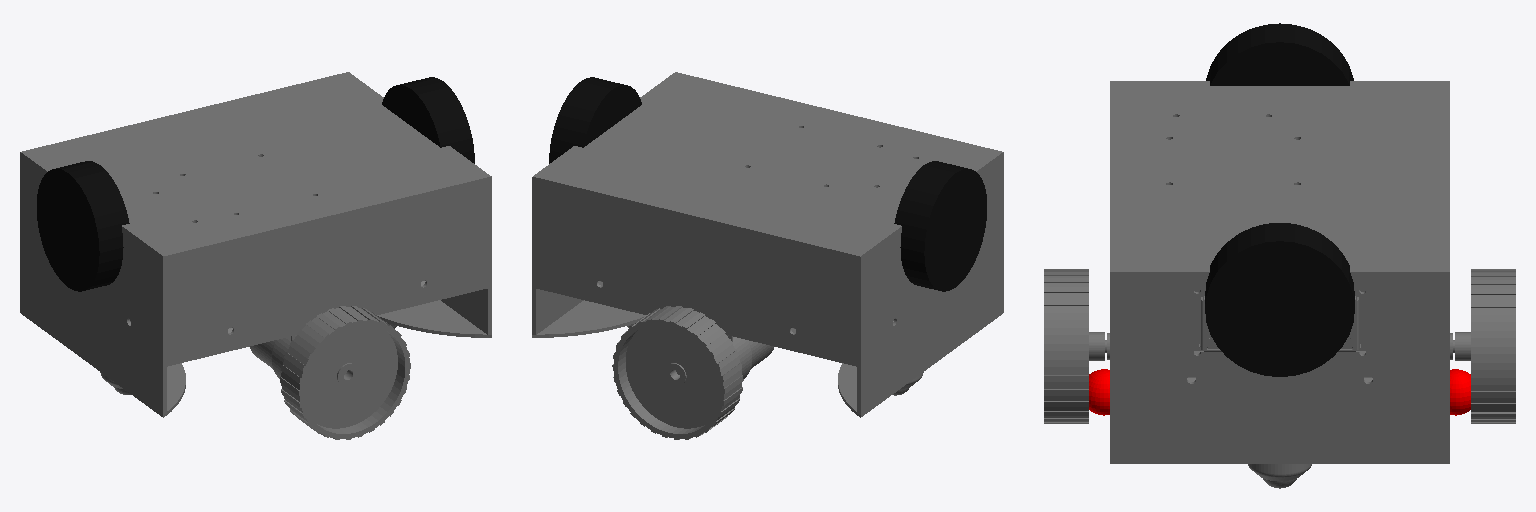
The robot description file, URDF, robot "qbot":
<?xml version="1.0" ?>
<!-- =================================================================================== -->
<!-- |    This document was autogenerated by xacro from qbot_description.xacro         | -->
<!-- |    EDITING THIS FILE BY HAND IS NOT RECOMMENDED                                 | -->
<!-- =================================================================================== -->
<robot name="qbot">
  <!-- Materials -->
  <material name="blue">
    <color rgba="0 0 1 1"/>
  </material>
  <material name="red">
    <color rgba="1 0 0 1"/>
  </material>
  <material name="green">
    <color rgba="0 1 0 1"/>
  </material>
  <material name="gray">
    <color rgba="0.5 0.5 0.5 1"/>
  </material>
  <material name="black">
    <color rgba="0.1 0.1 0.1 1"/>
  </material>
  <!-- general inertia tags -->
  <!-- Model Properties -->
  <link name="base_footprint"/>
  <link name="base_link">
    <!-- From CAD -->
    <inertial>
      <!-- <origin xyz="1.7719586332633954E-6 1.751448244030529E-4 0.0466875772049434" rpy="0.0 -0.0 0.0"/> -->
      <mass value="1.3579939912816132"/>
      <inertia ixx="0.003930134422968899" ixy="4.165452750789473E-6" ixz="6.2059583704332395E-6" iyy="0.004627442836321762" iyz="-2.140255948376241E-5" izz="0.0065795625959500755"/>
    </inertial>
    <visual>
      <origin rpy="0 0 0" xyz="0 0 -0.074"/>
      <geometry>
        <mesh filename="package://qbot_description/meshes/qbot_base.stl" scale="1 1 1"/>
      </geometry>
      <material name="gray"/>
    </visual>
    <collision>
      <origin rpy="0 0 0" xyz="0 0 -0.074"/>
      <geometry>
        <box size="0.154 0.204 0.092"/>
      </geometry>
    </collision>
  </link>
  <link name="left_wheel">
    <visual>
      <origin rpy="0 0 0" xyz="0 0 0"/>
      <geometry>
        <cylinder length="0.02" radius="0.034"/>
      </geometry>
      <material name="black"/>
    </visual>
    <collision>
      <origin rpy="0 0 0" xyz="0 0 0"/>
      <geometry>
        <cylinder length="0.02" radius="0.034"/>
      </geometry>
    </collision>
    <inertial>
      <origin rpy="0 0 0" xyz="0 0 0"/>
      <mass value="0.033"/>
      <inertia ixx="1.0637000000000003e-05" ixy="0" ixz="0" iyy="1.0637000000000003e-05" iyz="0" izz="1.9074000000000004e-05"/>
    </inertial>
  </link>
  <link name="right_wheel">
    <visual>
      <origin rpy="0 0 0" xyz="0 0 0"/>
      <geometry>
        <cylinder length="0.02" radius="0.034"/>
      </geometry>
      <material name="black"/>
    </visual>
    <collision>
      <origin rpy="0 0 0" xyz="0 0 0"/>
      <geometry>
        <cylinder length="0.02" radius="0.034"/>
      </geometry>
    </collision>
    <inertial>
      <origin rpy="0 0 0" xyz="0 0 0"/>
      <mass value="0.033"/>
      <inertia ixx="1.0637000000000003e-05" ixy="0" ixz="0" iyy="1.0637000000000003e-05" iyz="0" izz="1.9074000000000004e-05"/>
    </inertial>
  </link>
  <link name="front_caster">
    <visual>
      <origin rpy="0 0 0" xyz="0 0 0"/>
      <geometry>
        <sphere radius="0.0105"/>
      </geometry>
      <material name="red"/>
    </visual>
    <collision>
      <origin rpy="0 0 0" xyz="0 0 0"/>
      <geometry>
        <sphere radius="0.0105"/>
      </geometry>
    </collision>
    <inertial>
      <origin rpy="0 0 0" xyz="0 0 0"/>
      <mass value="0.04"/>
      <inertia ixx="1.7640000000000002e-06" ixy="0" ixz="0" iyy="1.7640000000000002e-06" iyz="0" izz="1.7640000000000002e-06"/>
    </inertial>
  </link>
  <link name="rear_caster">
    <visual>
      <origin rpy="0 0 0" xyz="0 0 0"/>
      <geometry>
        <sphere radius="0.0105"/>
      </geometry>
      <material name="red"/>
    </visual>
    <collision>
      <origin rpy="0 0 0" xyz="0 0 0"/>
      <geometry>
        <sphere radius="0.0105"/>
      </geometry>
    </collision>
    <inertial>
      <origin rpy="0 0 0" xyz="0 0 0"/>
      <mass value="0.04"/>
      <inertia ixx="1.7640000000000002e-06" ixy="0" ixz="0" iyy="1.7640000000000002e-06" iyz="0" izz="1.7640000000000002e-06"/>
    </inertial>
  </link>
  <joint name="footprint_to_body" type="fixed">
    <parent link="base_footprint"/>
    <child link="base_link"/>
    <origin rpy="0 0 0" xyz="0 0 0.074"/>
  </joint>
  <joint name="left_wheel_joint" type="continuous">
    <origin rpy="0 1.5707963267948966 0" xyz="0.1067 0 0.034"/>
    <parent link="base_link"/>
    <child link="left_wheel"/>
    <axis xyz="0 0 1"/>
  </joint>
  <joint name="right_wheel_joint" type="continuous">
    <origin rpy="0 -1.5707963267948966 0" xyz="-0.1067 0 0.034"/>
    <parent link="base_link"/>
    <child link="right_wheel"/>
    <axis xyz="0 0 1"/>
  </joint>
  <joint name="front_caster_joint" type="fixed">
    <origin rpy="0 0 0" xyz="0 0.07967 -0.062"/>
    <parent link="base_link"/>
    <child link="front_caster"/>
  </joint>
  <joint name="rear_caster_joint" type="fixed">
    <origin rpy="0 0 0" xyz="0 -0.07967 -0.062"/>
    <parent link="base_link"/>
    <child link="rear_caster"/>
  </joint>
</robot>

--- Facts derived from the render (not from the file) ---
3 views of the same robot in one strip: view 1: azimuth 30°, elevation 25°; view 2: azimuth 150°, elevation 25°; view 3: azimuth 270°, elevation 25° (orthographic).
Robot: qbot — 6 links, 5 joints (2 continuous, 3 fixed); root link base_footprint; default pose: all joints at 0.
Links seen in each view (by area): view 1: base_link, right_wheel, left_wheel; view 2: base_link, right_wheel, left_wheel; view 3: base_link, left_wheel, right_wheel, front_caster, rear_caster.
Link boxes in pixels (bbox=[...]): base_link: bbox=[20, 72, 491, 439]; right_wheel: bbox=[37, 161, 129, 291]; left_wheel: bbox=[382, 77, 474, 163]; base_link: bbox=[532, 72, 1003, 439]; right_wheel: bbox=[894, 161, 986, 291]; left_wheel: bbox=[549, 77, 641, 163]; base_link: bbox=[1044, 81, 1515, 488]; left_wheel: bbox=[1205, 223, 1354, 376]; right_wheel: bbox=[1206, 23, 1353, 85]; front_caster: bbox=[1450, 369, 1470, 415]; rear_caster: bbox=[1089, 369, 1109, 415].
Size in the robot's own frame: 0.2334 by 0.2134 by 0.142 metres.
Meshes: 1 distinct files referenced, 1 mesh visuals loaded (1 binary STL).